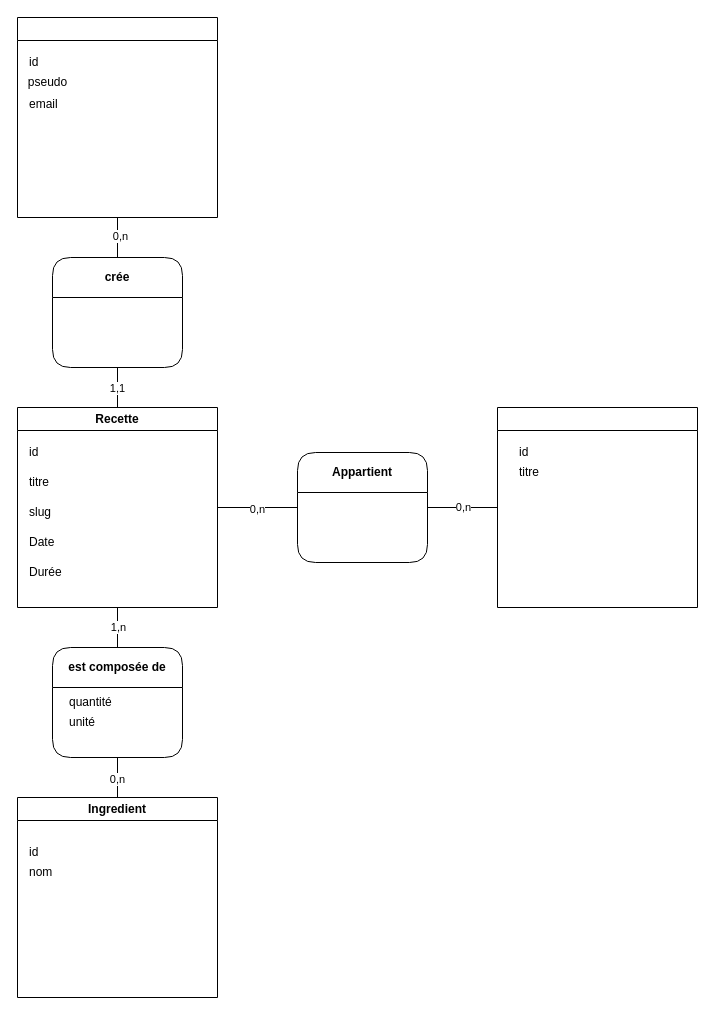
This 715x1015 diagram has some shape labels left out. The shapes that lost their labels are listed below. From the top down, each one's box as (x1, y1, x2, y2) in pixels, then its label:
(16, 16, 218, 218): Utilisateur
(496, 406, 698, 608): Categorie
